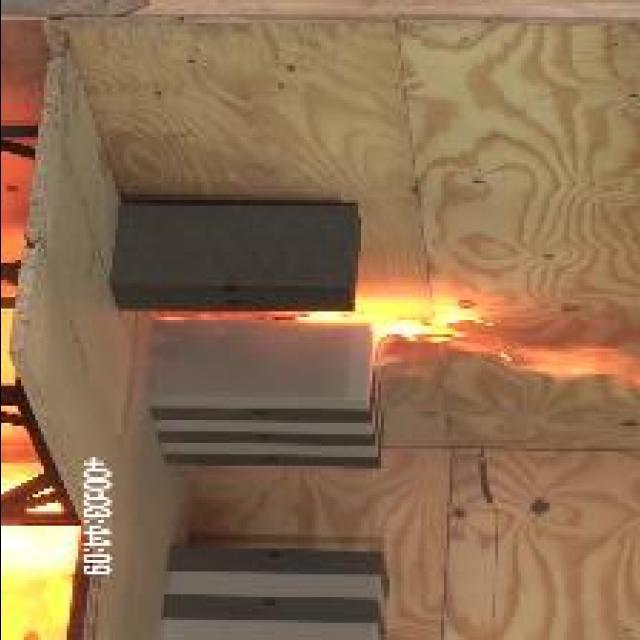Fire: (303, 306, 640, 378)
